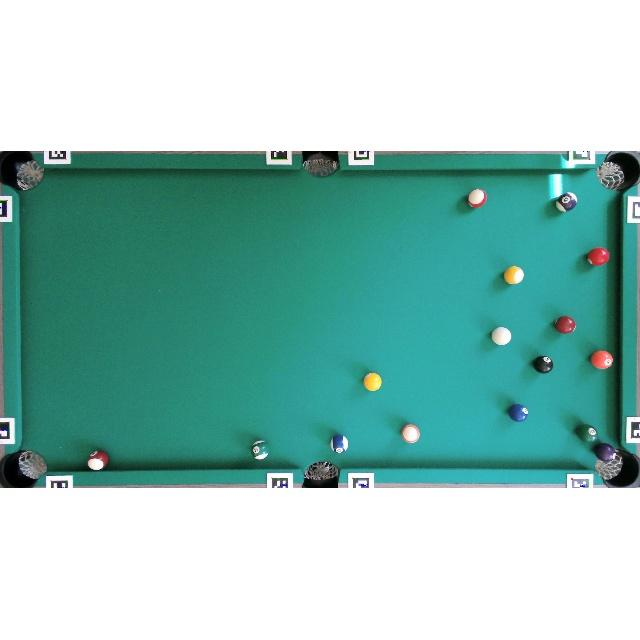cue ball: (492, 327, 511, 345)
other: (587, 247, 610, 267), (594, 442, 616, 462), (590, 350, 613, 369), (556, 192, 577, 212), (88, 450, 109, 470), (577, 424, 598, 443), (363, 372, 382, 392), (468, 188, 487, 208), (555, 316, 576, 334), (401, 424, 420, 443), (504, 266, 524, 284), (508, 404, 528, 422), (330, 434, 348, 454), (533, 356, 553, 373), (252, 440, 269, 460)
